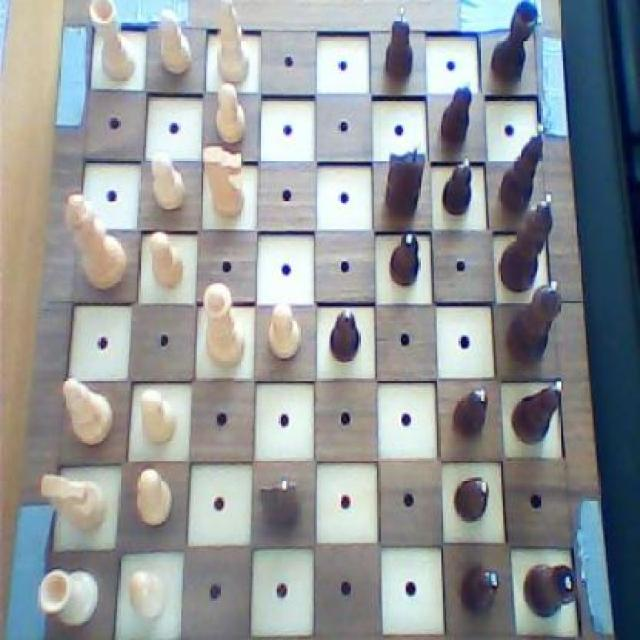bishop: (494, 120, 546, 212), (510, 377, 566, 445)
black-bishop: (497, 192, 555, 294)
black-king: (382, 138, 428, 222), (254, 474, 305, 533)
black-knight: (436, 75, 476, 150), (457, 558, 501, 616), (383, 6, 414, 82), (326, 304, 362, 364), (438, 158, 474, 216), (451, 386, 489, 439), (388, 226, 420, 287), (451, 475, 490, 524)
black-queen: (488, 0, 542, 86), (522, 557, 580, 621)
black-rook: (60, 374, 117, 450), (214, 0, 249, 83)
white-bishop: (38, 469, 108, 534), (37, 563, 100, 625), (202, 142, 246, 222)
white-king: (63, 192, 129, 293)
white-knight: (154, 5, 195, 79), (126, 563, 170, 624), (134, 466, 175, 529), (149, 148, 187, 215), (210, 80, 248, 145), (138, 388, 178, 448), (146, 229, 185, 290), (264, 300, 300, 361)
white-pawn: (200, 277, 246, 368)
white-queen: (86, 0, 134, 85)
